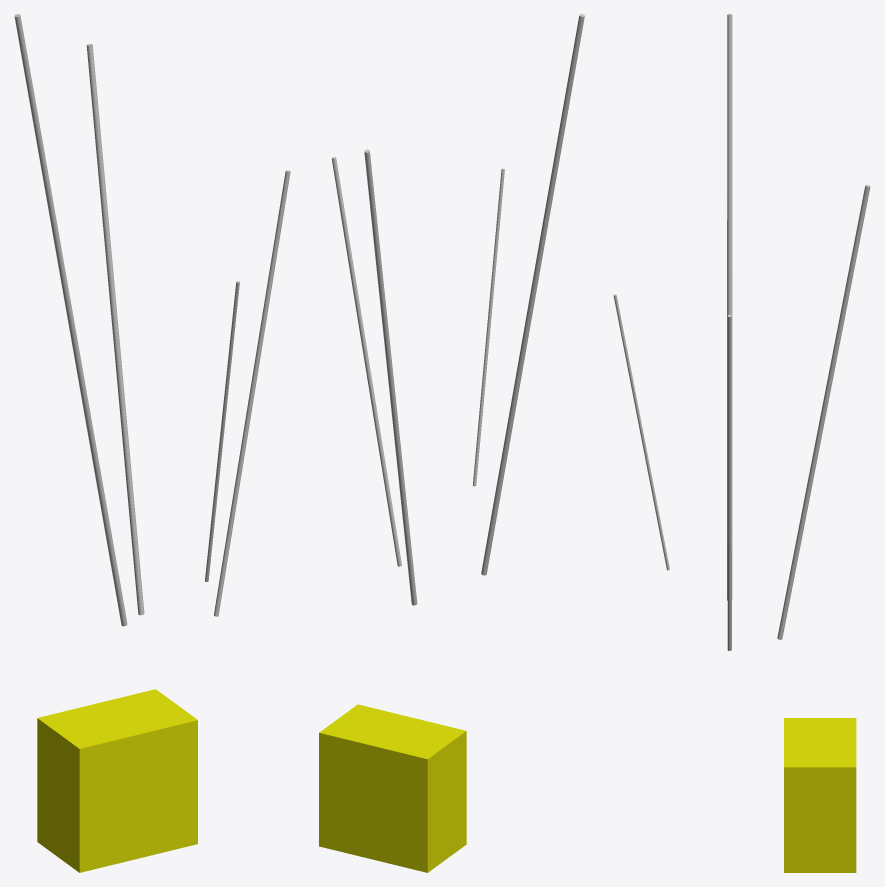
Rendered from satellite-antenna.glb.
3 renders of one model, left to right at view 1: azimuth 30°, elevation 25°; view 2: azimuth 150°, elevation 25°; view 3: azimuth 270°, elevation 25°, orthographic. The views are drawn at different scales.
Visible parts, largest first — view 1: pCube1, pCylinder4, pCylinder2, pCylinder3, pCylinder1; view 2: pCube1, pCylinder4, pCylinder2, pCylinder3, pCylinder1; view 3: pCube1, pCylinder2, pCylinder4, pCylinder3, pCylinder1.
Part boxes in pixels (x1,y1,x2,y2): pCube1: [37, 689, 197, 872]; pCylinder4: [14, 14, 127, 626]; pCylinder2: [86, 44, 144, 615]; pCylinder3: [214, 170, 290, 616]; pCylinder1: [205, 281, 239, 581]; pCube1: [319, 704, 466, 872]; pCylinder4: [481, 14, 584, 575]; pCylinder2: [364, 149, 417, 605]; pCylinder3: [331, 157, 401, 566]; pCylinder1: [472, 168, 504, 486]; pCube1: [784, 718, 856, 872]; pCylinder2: [777, 184, 870, 639]; pCylinder4: [727, 14, 732, 600]; pCylinder3: [727, 314, 731, 650]; pCylinder1: [613, 294, 669, 570].
Bounding box in the file's own units: 0.0465 × 0.1459 × 0.0441.
